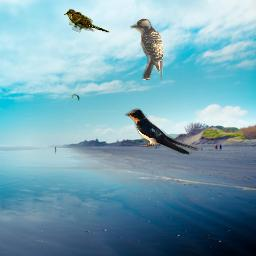Cuckoo: (64, 9, 110, 33)
Swallow: (124, 107, 200, 155)
Woodpecker: (130, 18, 163, 80)
